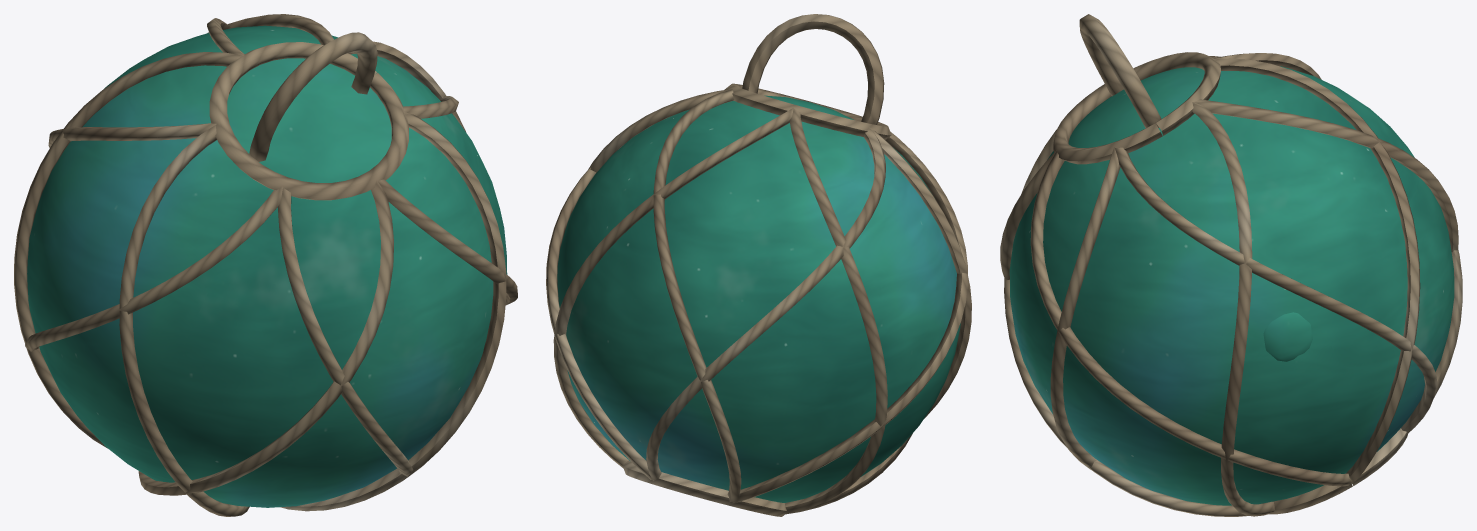
Rendered from GlassFloat.gltf.
3 renders of one model, left to right at view 1: azimuth 30°, elevation 25°; view 2: azimuth 150°, elevation 25°; view 3: azimuth 270°, elevation 25°, orthographic. The views are drawn at different scales.
Parts seen in each view (by area): view 1: GlassFloat; view 2: GlassFloat; view 3: GlassFloat.
Part boxes in pixels (x1,y1,x2,y2): GlassFloat: [14, 14, 517, 516]; GlassFloat: [546, 14, 971, 516]; GlassFloat: [1000, 14, 1462, 516].
Size of the model in its own units: 0.3156 by 0.3529 by 0.3116.
2 materials, 2 textured.
